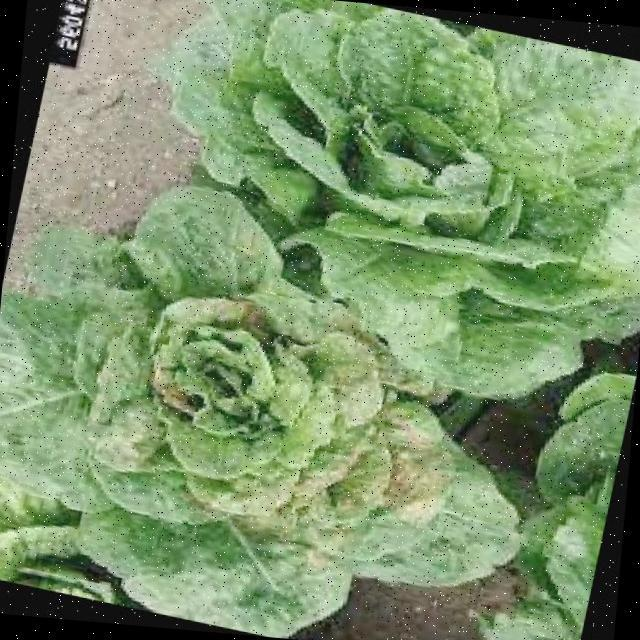Lettuce Mosaic Virus: (3, 225, 494, 587)
